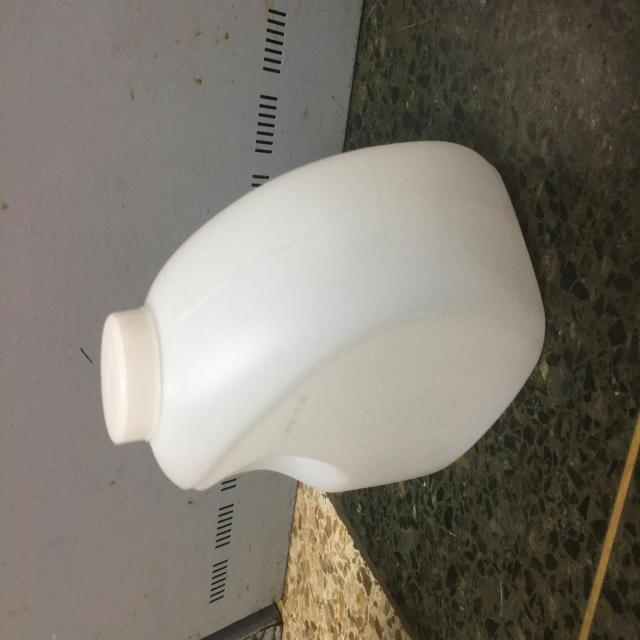bottle: (100, 127, 550, 506)
